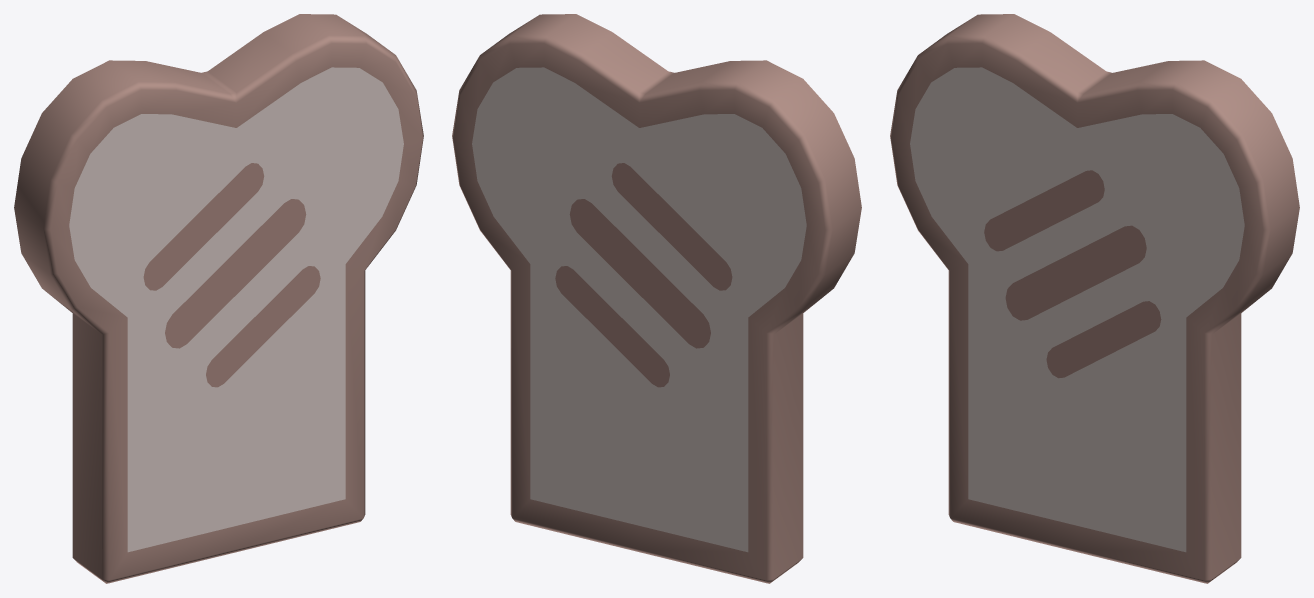
The model's file is Store_18_Slice_Of_Bread_2.glb.
3 renders of one model, left to right at view 1: azimuth 30°, elevation 25°; view 2: azimuth 150°, elevation 25°; view 3: azimuth 330°, elevation 25°, orthographic.
Parts seen in each view (by area): view 1: Store_18_Slice_Of_Bread_2; view 2: Store_18_Slice_Of_Bread_2; view 3: Store_18_Slice_Of_Bread_2.
Boxes of the visible parts, box(x1,y1,x2,y2) form: Store_18_Slice_Of_Bread_2: box(14, 14, 423, 583); Store_18_Slice_Of_Bread_2: box(452, 14, 861, 583); Store_18_Slice_Of_Bread_2: box(890, 14, 1299, 583).
Bounding box in the file's own units: 0.2199 × 0.2729 × 0.0354.
Materials: 1 (1 with a texture image).
